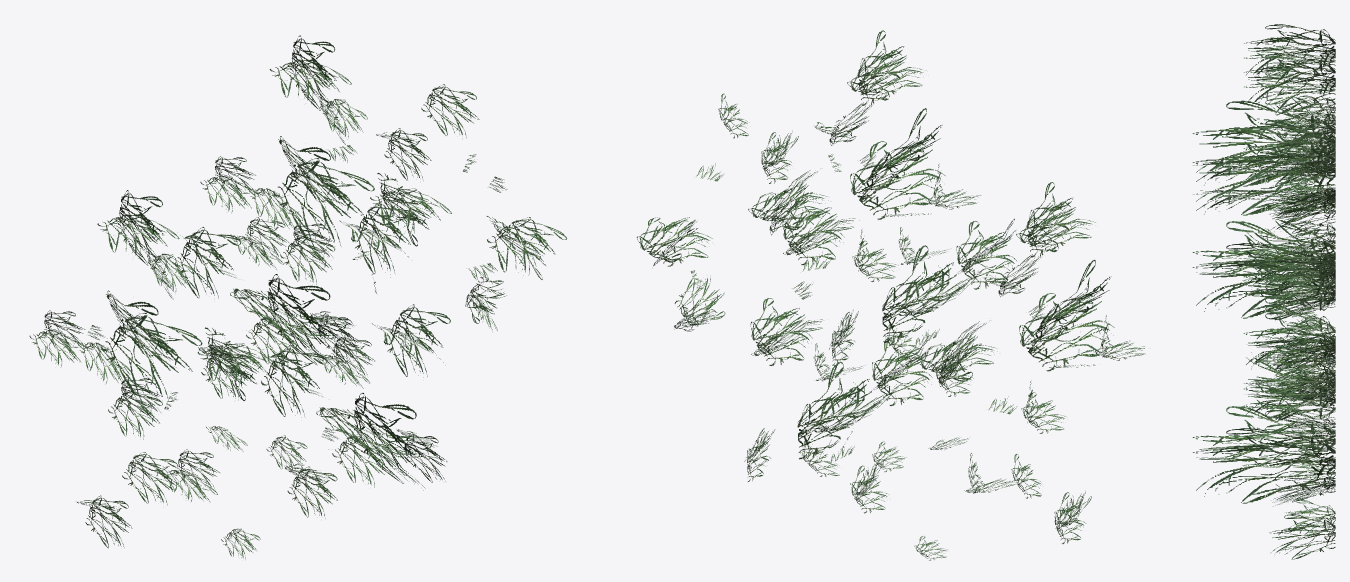
The model's file is tdr_v_watergrass_b.obj.
3 renders of one model, left to right at view 1: azimuth 30°, elevation 25°; view 2: azimuth 150°, elevation 25°; view 3: azimuth 270°, elevation 25°, orthographic. The views are drawn at different scales.
Visible parts, largest first — view 1: tdr_v_watergrass_b; view 2: tdr_v_watergrass_b; view 3: tdr_v_watergrass_b.
Part boxes in pixels (left/top/right/bottom): tdr_v_watergrass_b: left=29, top=35, right=566, bottom=559; tdr_v_watergrass_b: left=636, top=30, right=1145, bottom=560; tdr_v_watergrass_b: left=1192, top=24, right=1335, bottom=559.
Bounding box in the file's own units: 1733 × 1621 × 401.
1 material, 1 textured.
